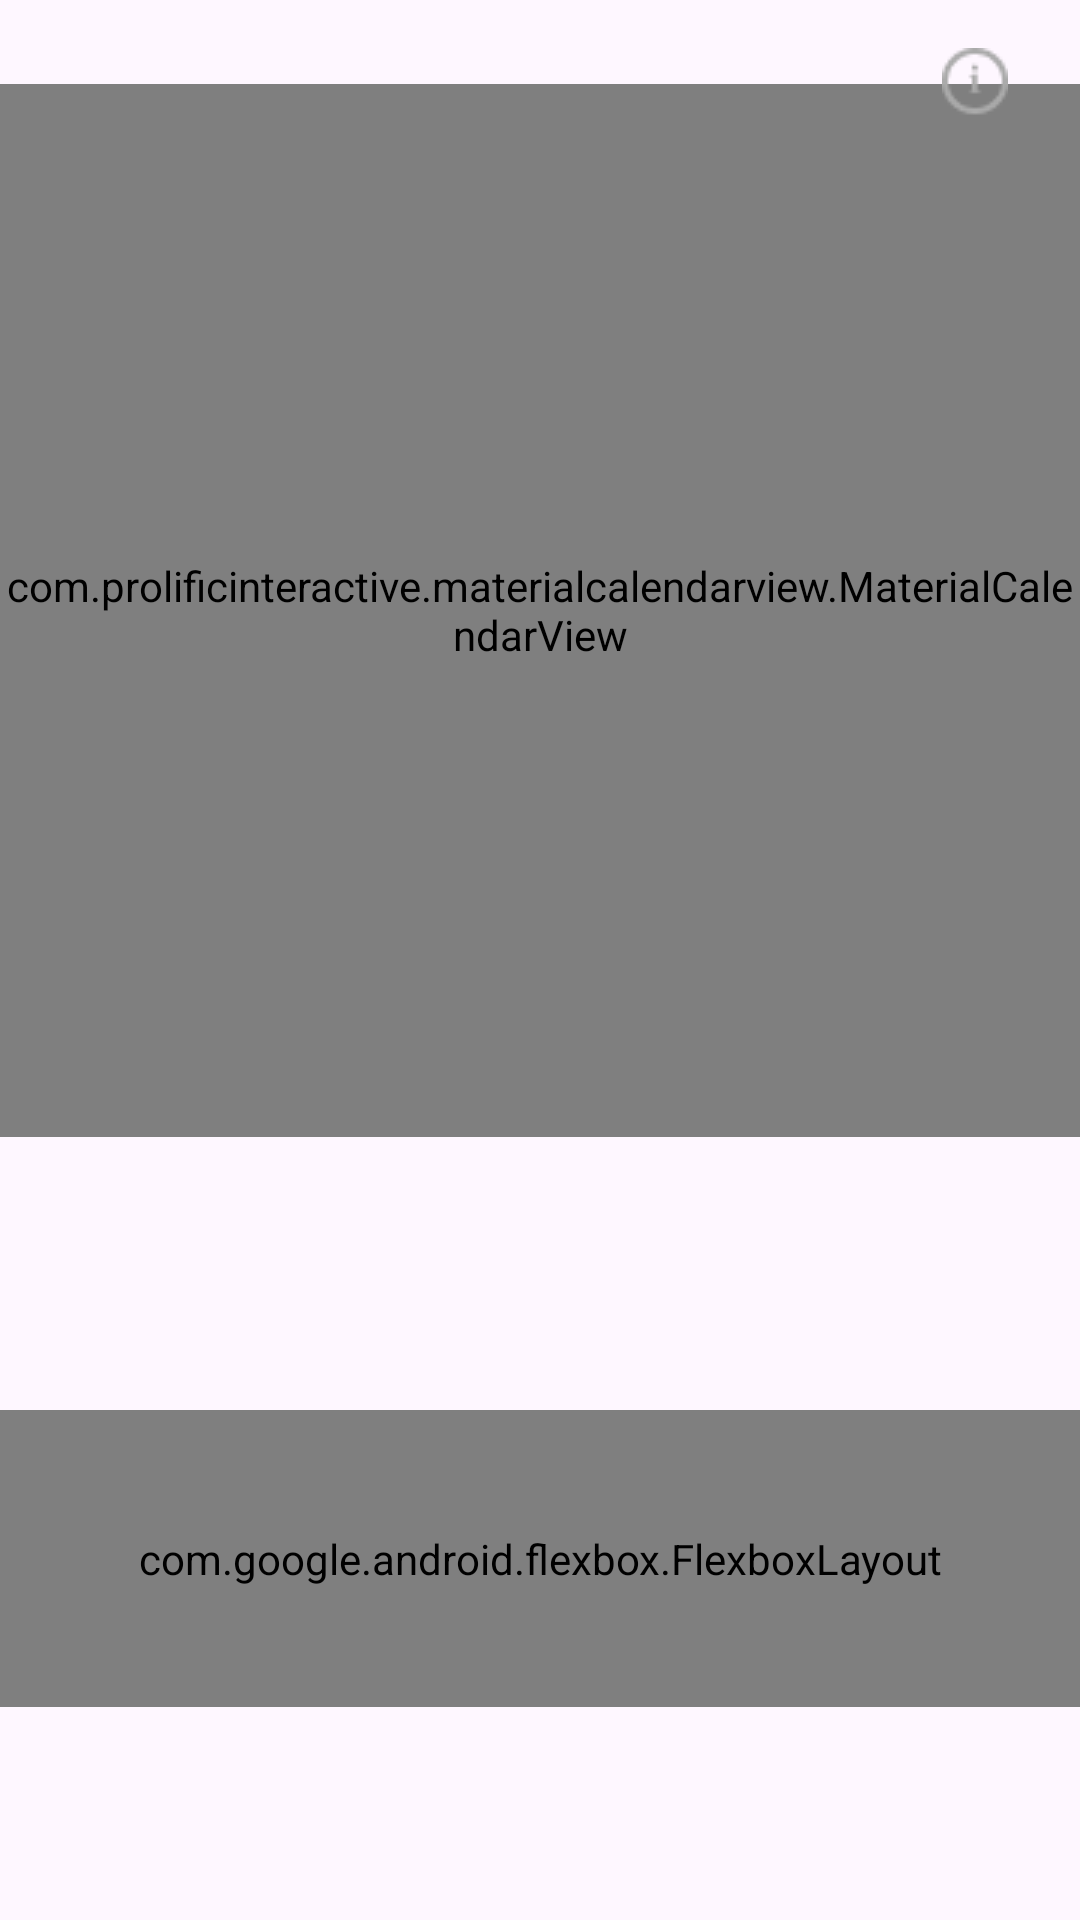

Where to tap for icons on this 1080x1920 app screen, as (x=x, y=y):
infogray: (x=975, y=85)
